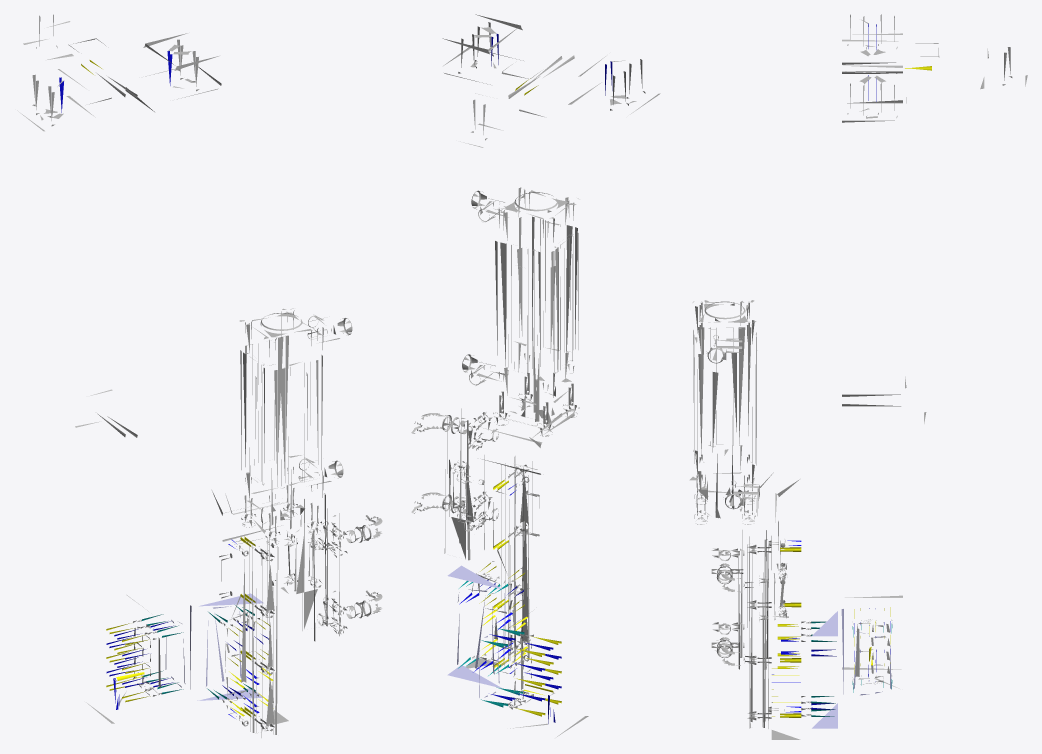
The picture shows the model from 3 angles, left to right: view 1: azimuth 30°, elevation 25°; view 2: azimuth 150°, elevation 25°; view 3: azimuth 270°, elevation 25°; orthographic projection. The views are drawn at different scales.
Visible parts, largest first — view 1: F19721000063102000112_001_sym_of_zb_ub_stiftzieher_11_fa (×4); view 2: F19721000063102000112_001_sym_of_zb_ub_stiftzieher_11_fa (×5); view 3: F19721000063102000112_001_sym_of_zb_ub_stiftzieher_11_fa (×4).
Boxes of the visible parts, left/top/right/bottom form: F19721000063102000112_001_sym_of_zb_ub_stiftzieher_11_fa (×4): left=17, top=14, right=382, bottom=737; F19721000063102000112_001_sym_of_zb_ub_stiftzieher_11_fa (×5): left=411, top=14, right=660, bottom=737; F19721000063102000112_001_sym_of_zb_ub_stiftzieher_11_fa (×4): left=689, top=14, right=1027, bottom=739.
Size of the model in its own units: 315 by 333 by 685.
